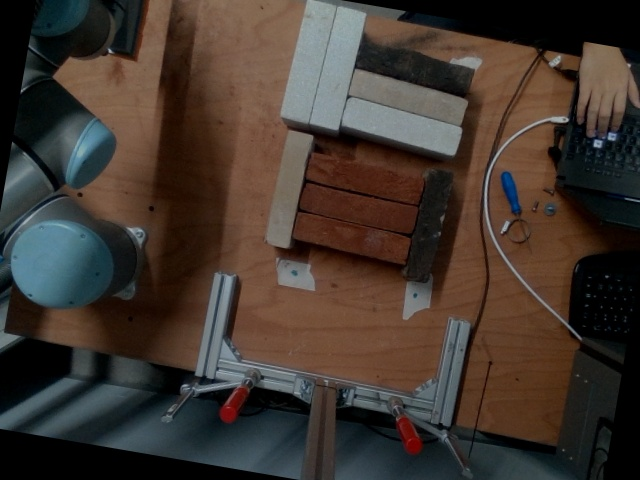brick-side: (340, 95, 463, 155), (347, 68, 469, 125), (309, 5, 365, 129), (281, 0, 336, 122), (357, 41, 475, 96), (294, 209, 410, 263), (300, 180, 416, 233), (402, 165, 454, 283), (263, 128, 314, 246), (307, 153, 424, 204)
